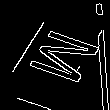M_SE: (11, 24, 99, 86)
